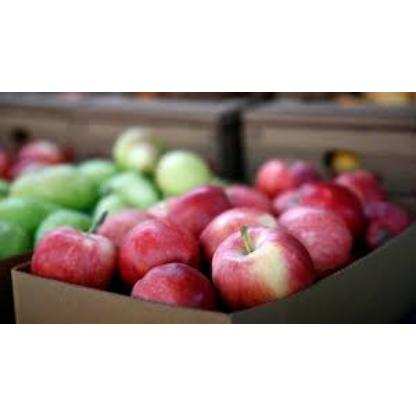apple: (216, 240, 320, 300), (290, 212, 356, 271), (199, 201, 275, 243), (141, 271, 211, 315), (47, 226, 109, 274), (277, 176, 358, 206), (264, 160, 318, 192), (128, 233, 188, 260), (341, 168, 383, 198), (168, 189, 224, 211), (373, 204, 409, 234)
